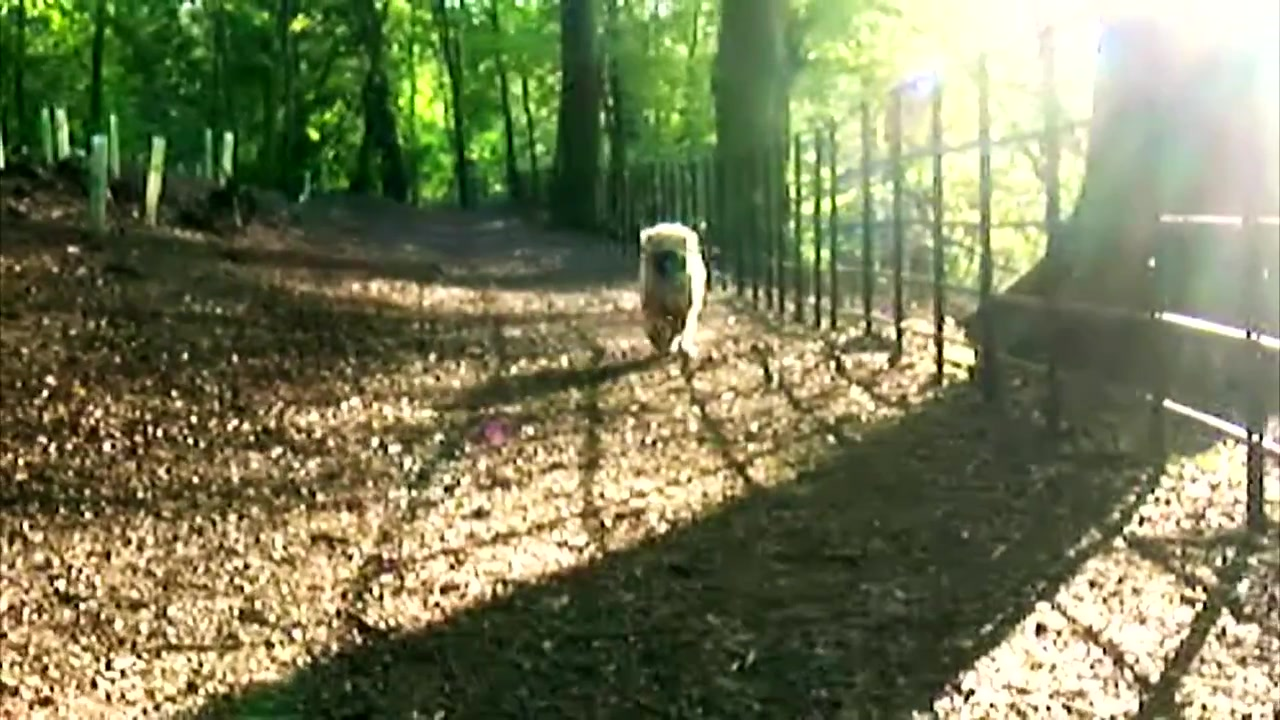dog: (639, 223, 710, 363)
